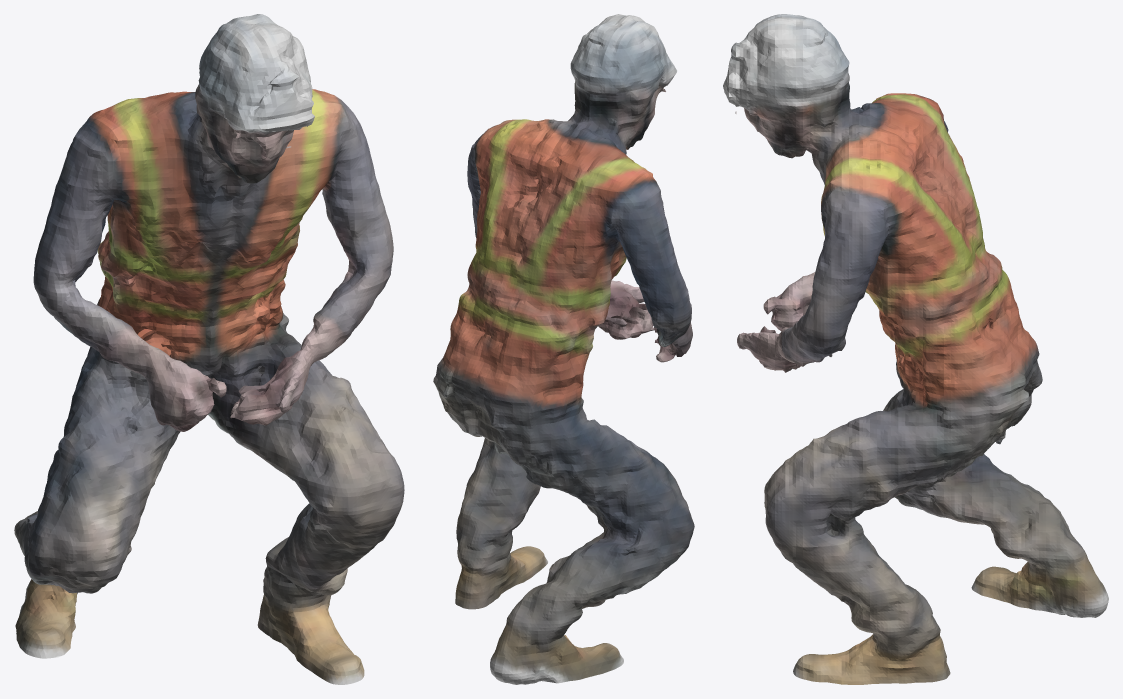
Rendered from standup_7.glb.
The picture shows the model from 3 angles, left to right: view 1: azimuth 30°, elevation 25°; view 2: azimuth 150°, elevation 25°; view 3: azimuth 270°, elevation 25°; orthographic projection. The views are drawn at different scales.
Visible parts, largest first — view 1: world; view 2: world; view 3: world.
Boxes of the visible parts, x1=… form: world: x1=14, y1=14, x2=404, y2=684; world: x1=433, y1=14, x2=694, y2=684; world: x1=723, y1=14, x2=1108, y2=684.
Size of the model in its own units: 0.7136 by 1.5 by 0.8591.
